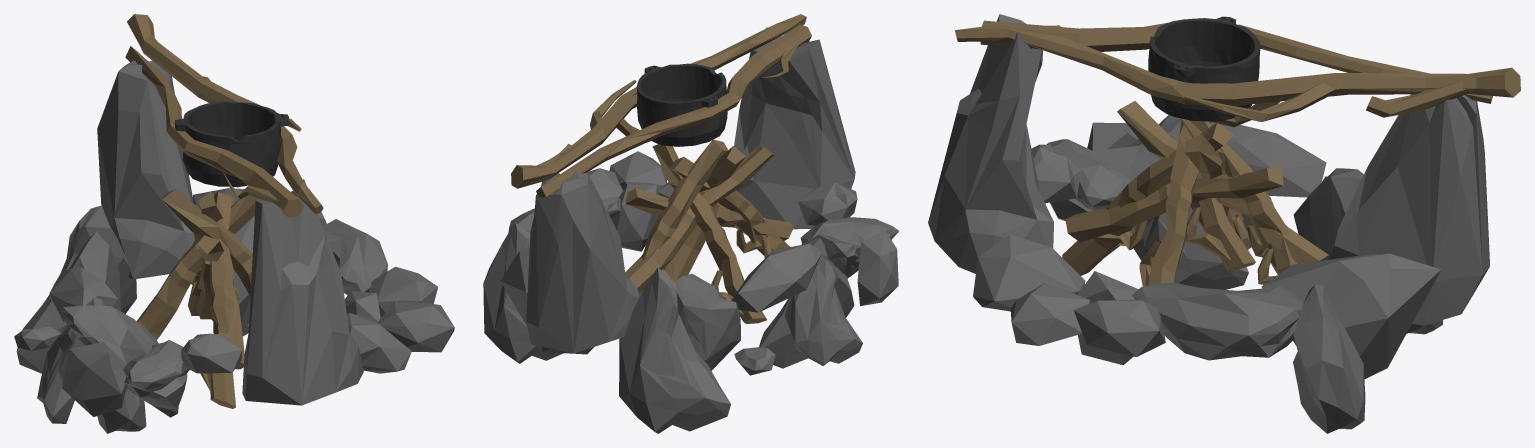
Rendered from Fire.fbx.
3 views of the same model, side by side, from view 1: azimuth 30°, elevation 25°; view 2: azimuth 150°, elevation 25°; view 3: azimuth 270°, elevation 25° (orthographic). The views are drawn at different scales.
Parts seen in each view (by area): view 1: Fire; view 2: Fire; view 3: Fire.
Part boxes in pixels (bbox=[...]): Fire: bbox=[14, 14, 454, 433]; Fire: bbox=[483, 14, 898, 433]; Fire: bbox=[928, 14, 1520, 433].
Size of the model in its own units: 106 by 81.58 by 131.
